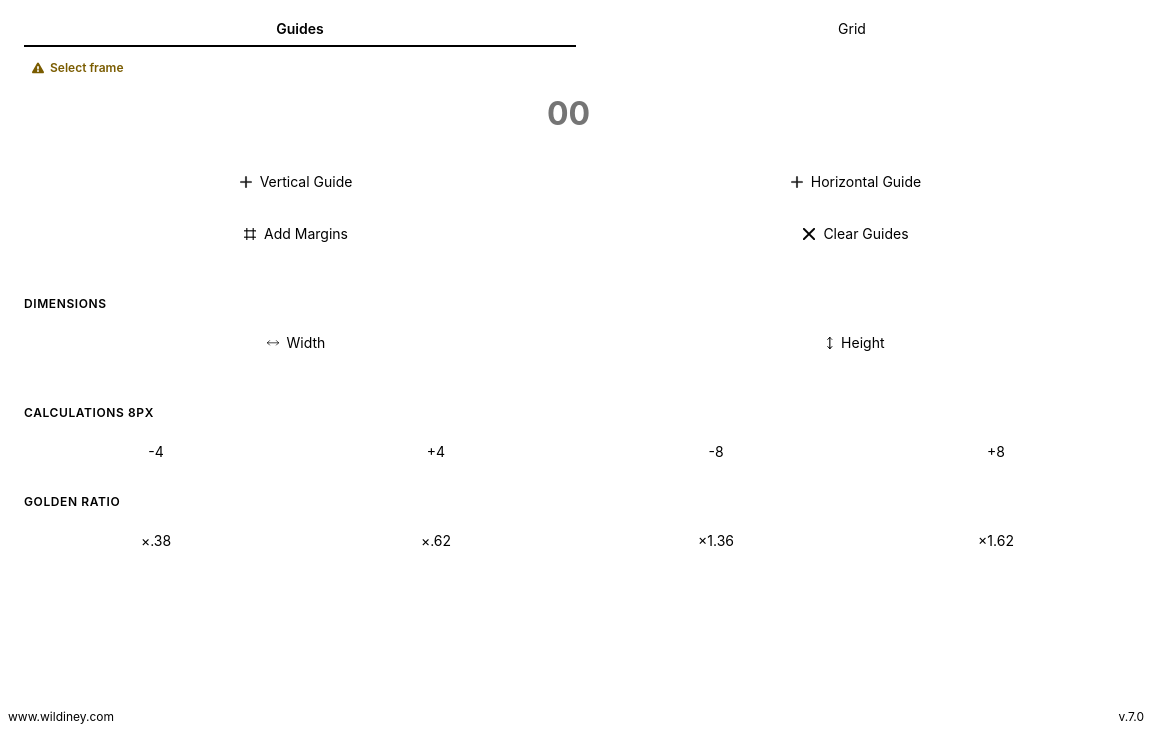
Scenario: App Component › should render the Grid tab and switch to it
Click the tab "Grid": (852, 30) [576,12,1128,47]
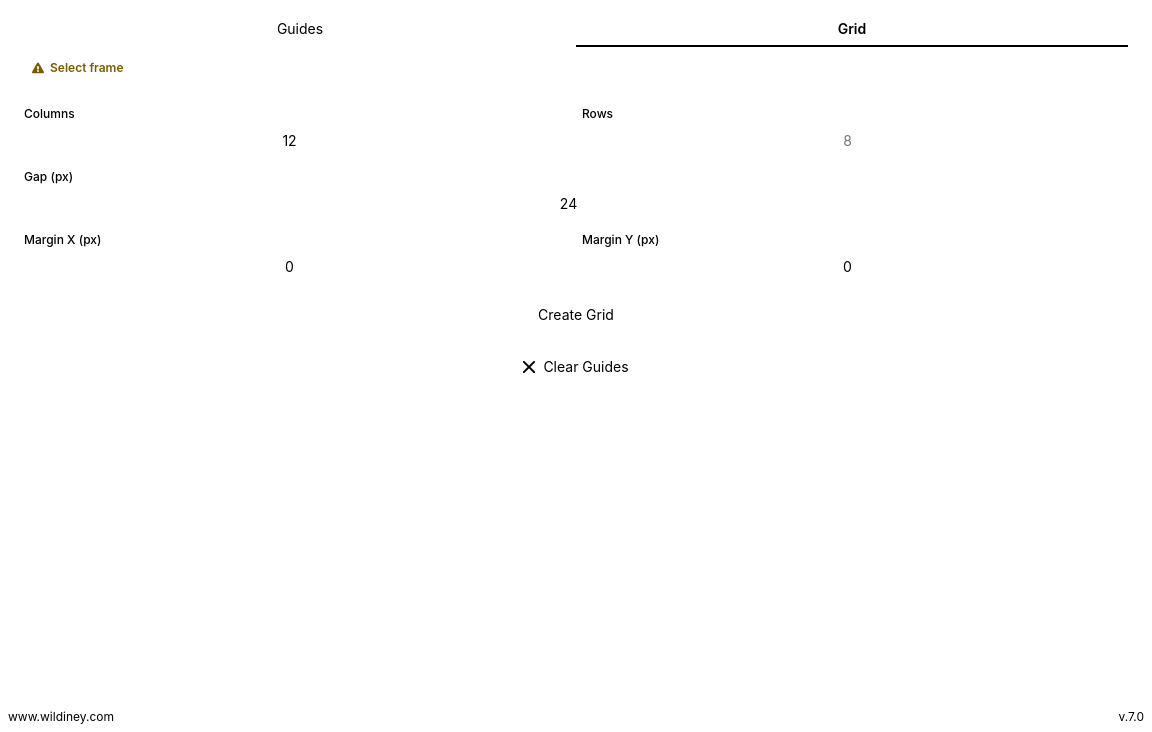
Expected: the number field labelled "Columns" is shown, [24,125,570,157]
Expected: the number field labelled "Rows" is shown, [582,125,1128,157]
Expected: the button "Create Grid" is shown, [24,295,1128,335]
